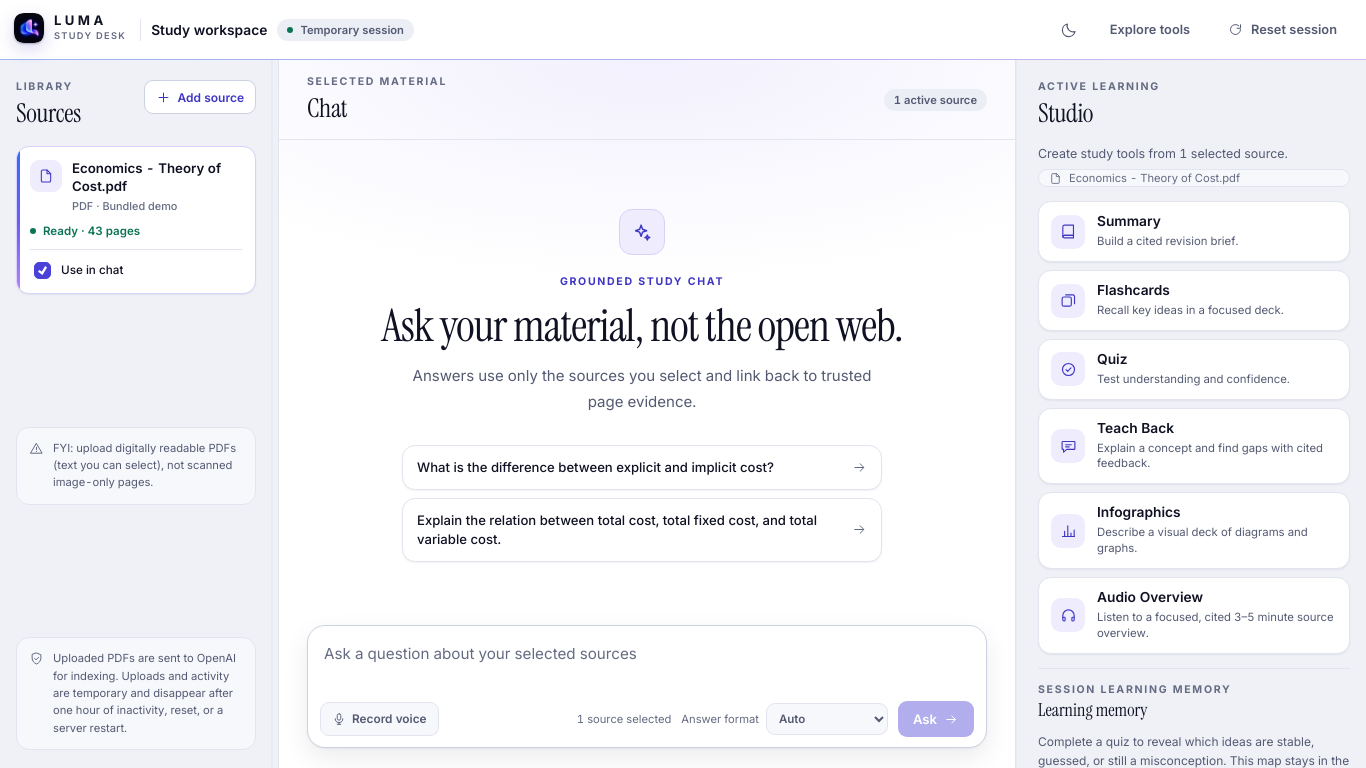
Test: WorkspacePage › opens the Infographics prompt editor from Studio
The image size is (1366, 768).
Click the button "Infographics Describe a visual deck of diagrams and graphs.". click: [1194, 531]
box: [1038,492,1350,569]
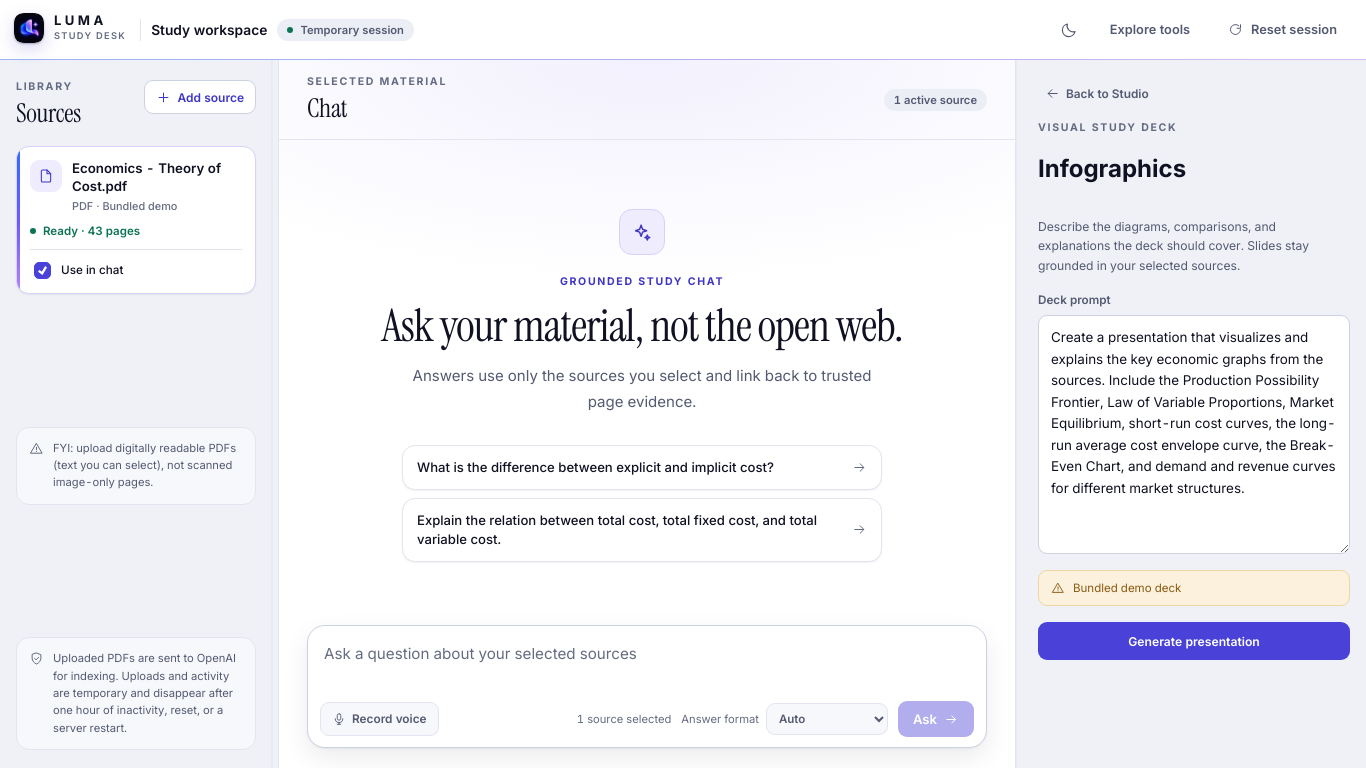
Check: the heading "Infographics" is shown, box [1038,154,1186,183]
Check: the button "Generate presentation" is enabled, box [1038,622,1350,660]
